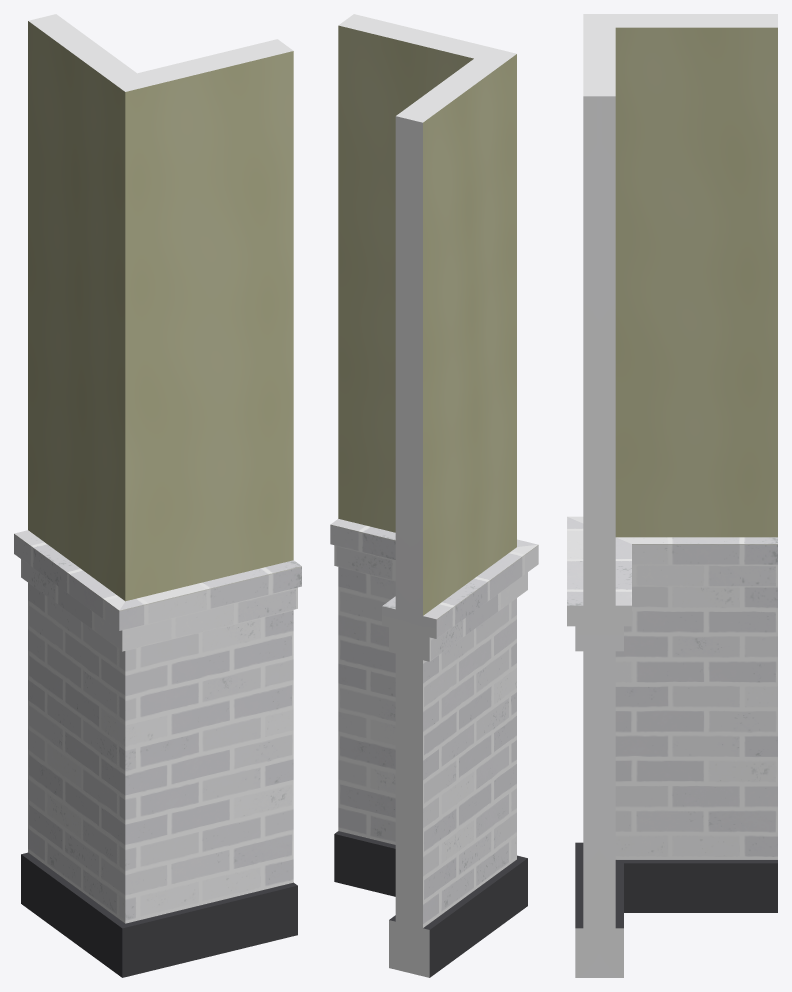
The model's file is SM_Buildings_Wall_CornerOut_01_TileBack.fbx.
The picture shows the model from 3 angles, left to right: view 1: azimuth 30°, elevation 25°; view 2: azimuth 150°, elevation 25°; view 3: azimuth 270°, elevation 25°; orthographic projection. The views are drawn at different scales.
Parts seen in each view (by area): view 1: SM_Buildings_Wall_CornerOut_01_TileBack; view 2: SM_Buildings_Wall_CornerOut_01_TileBack; view 3: SM_Buildings_Wall_CornerOut_01_TileBack.
Boxes of the visible parts, left/top/right/bottom form: SM_Buildings_Wall_CornerOut_01_TileBack: left=14, top=14, right=301, bottom=977; SM_Buildings_Wall_CornerOut_01_TileBack: left=330, top=14, right=538, bottom=977; SM_Buildings_Wall_CornerOut_01_TileBack: left=567, top=14, right=777, bottom=977.
Bounding box in the file's own units: 65 × 300 × 65.
Materials: 1 (1 with a texture image).
